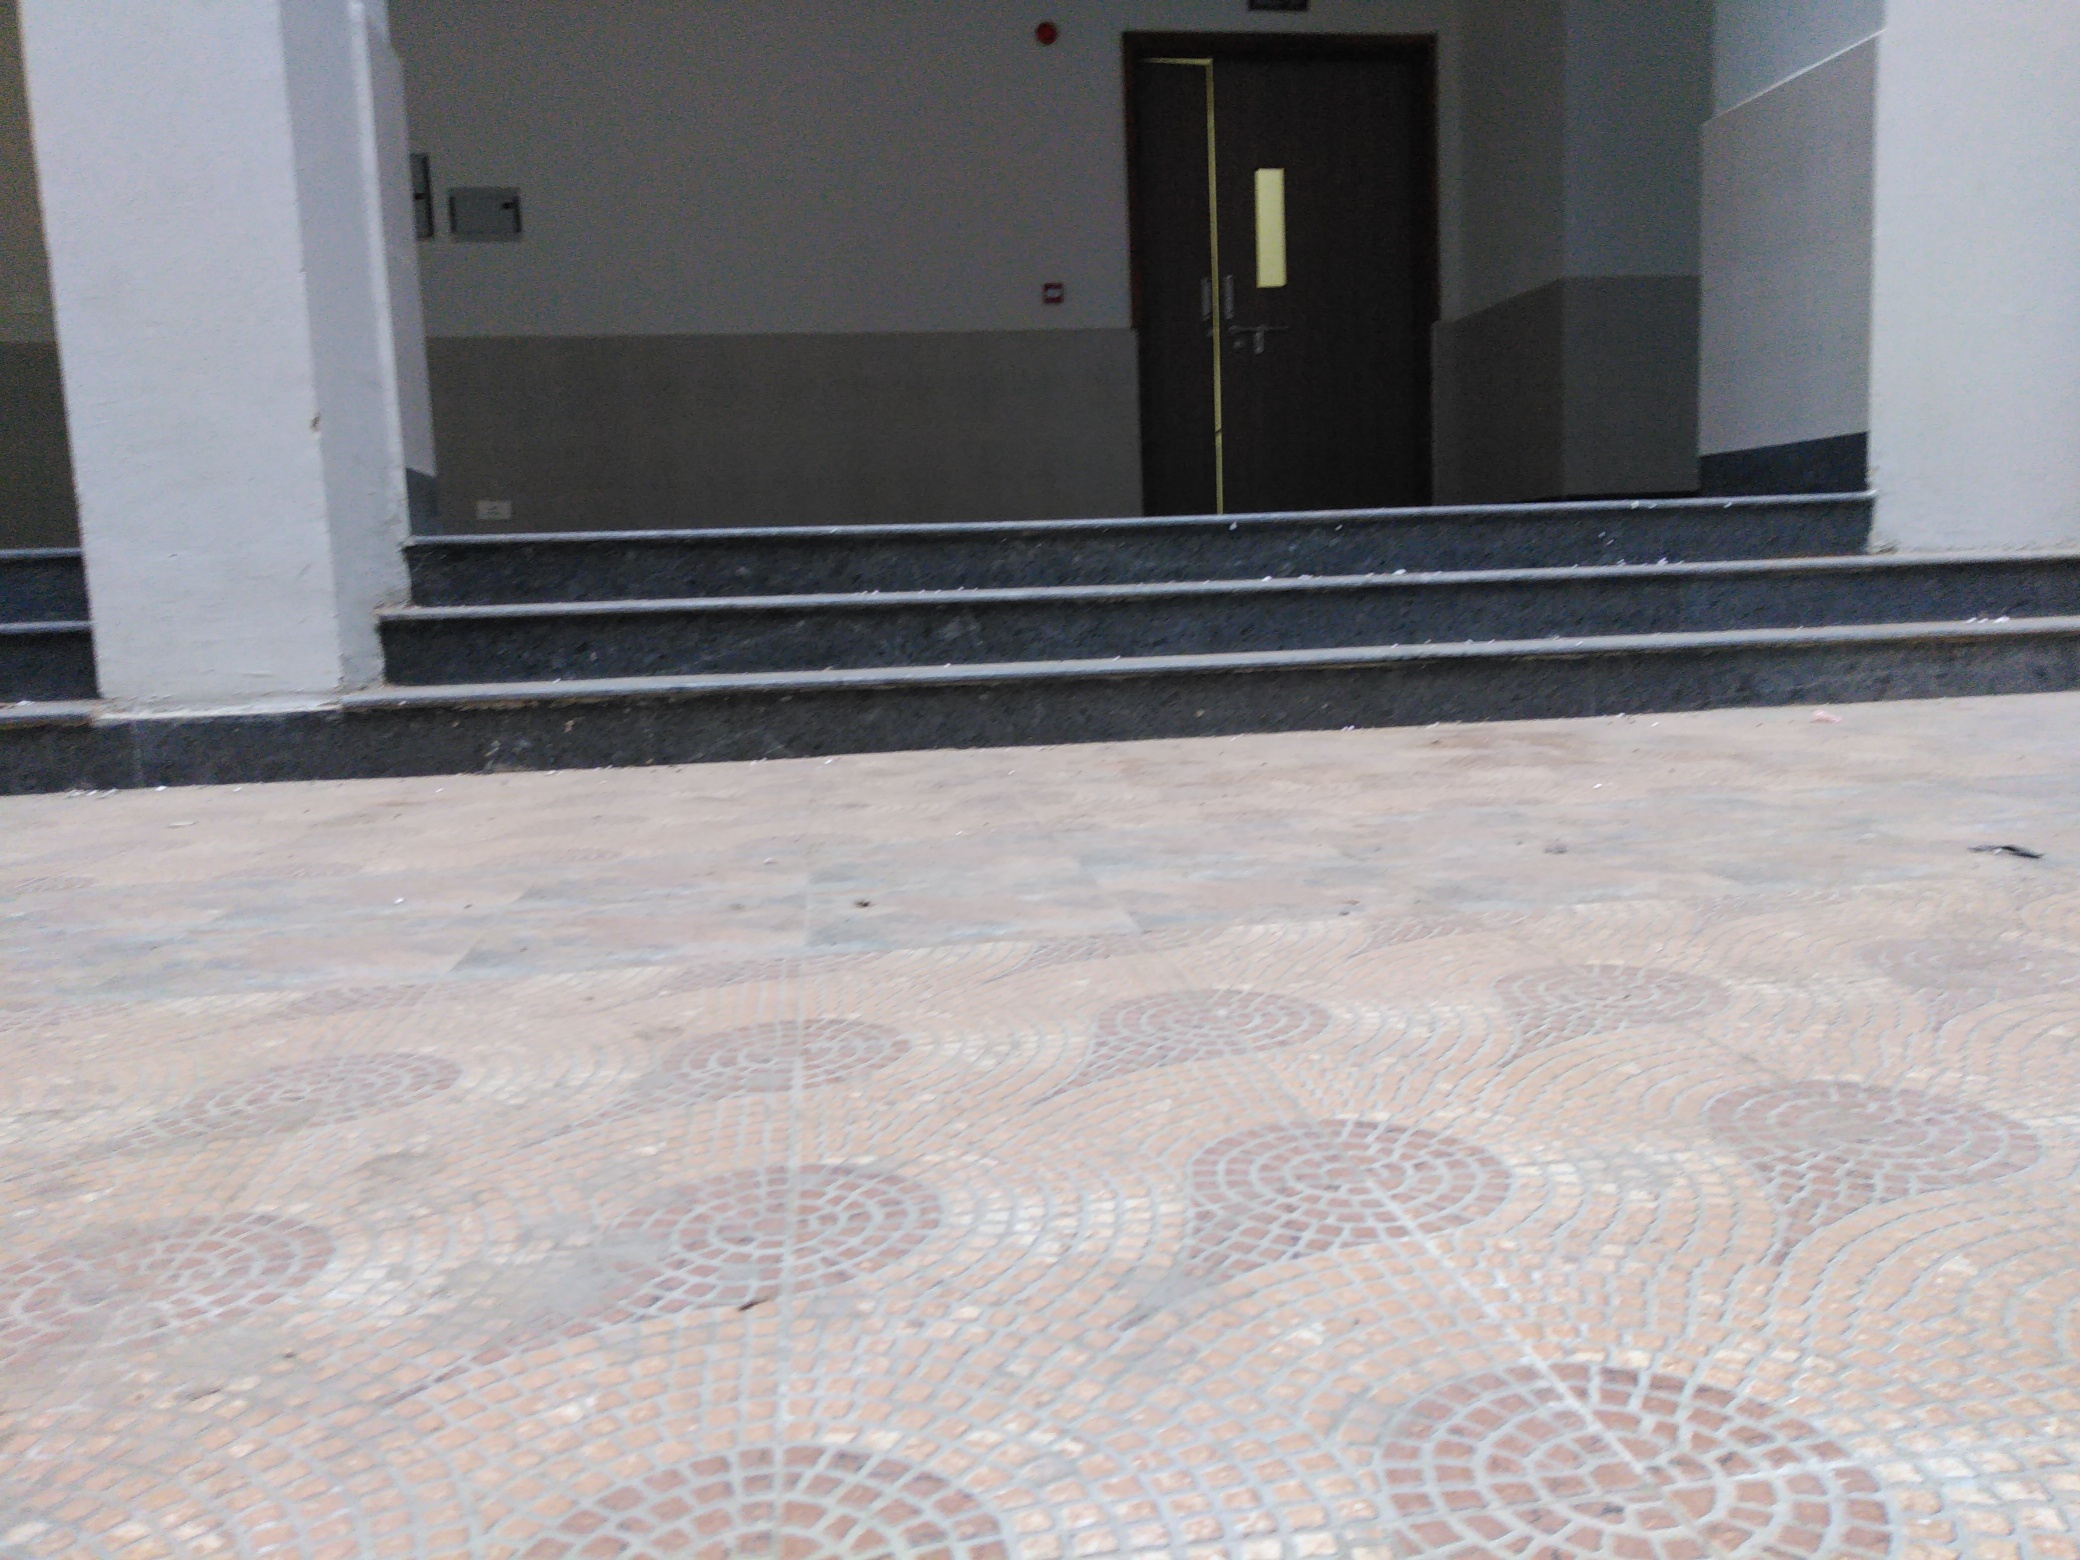stairs_up: (354, 492, 1892, 780)
